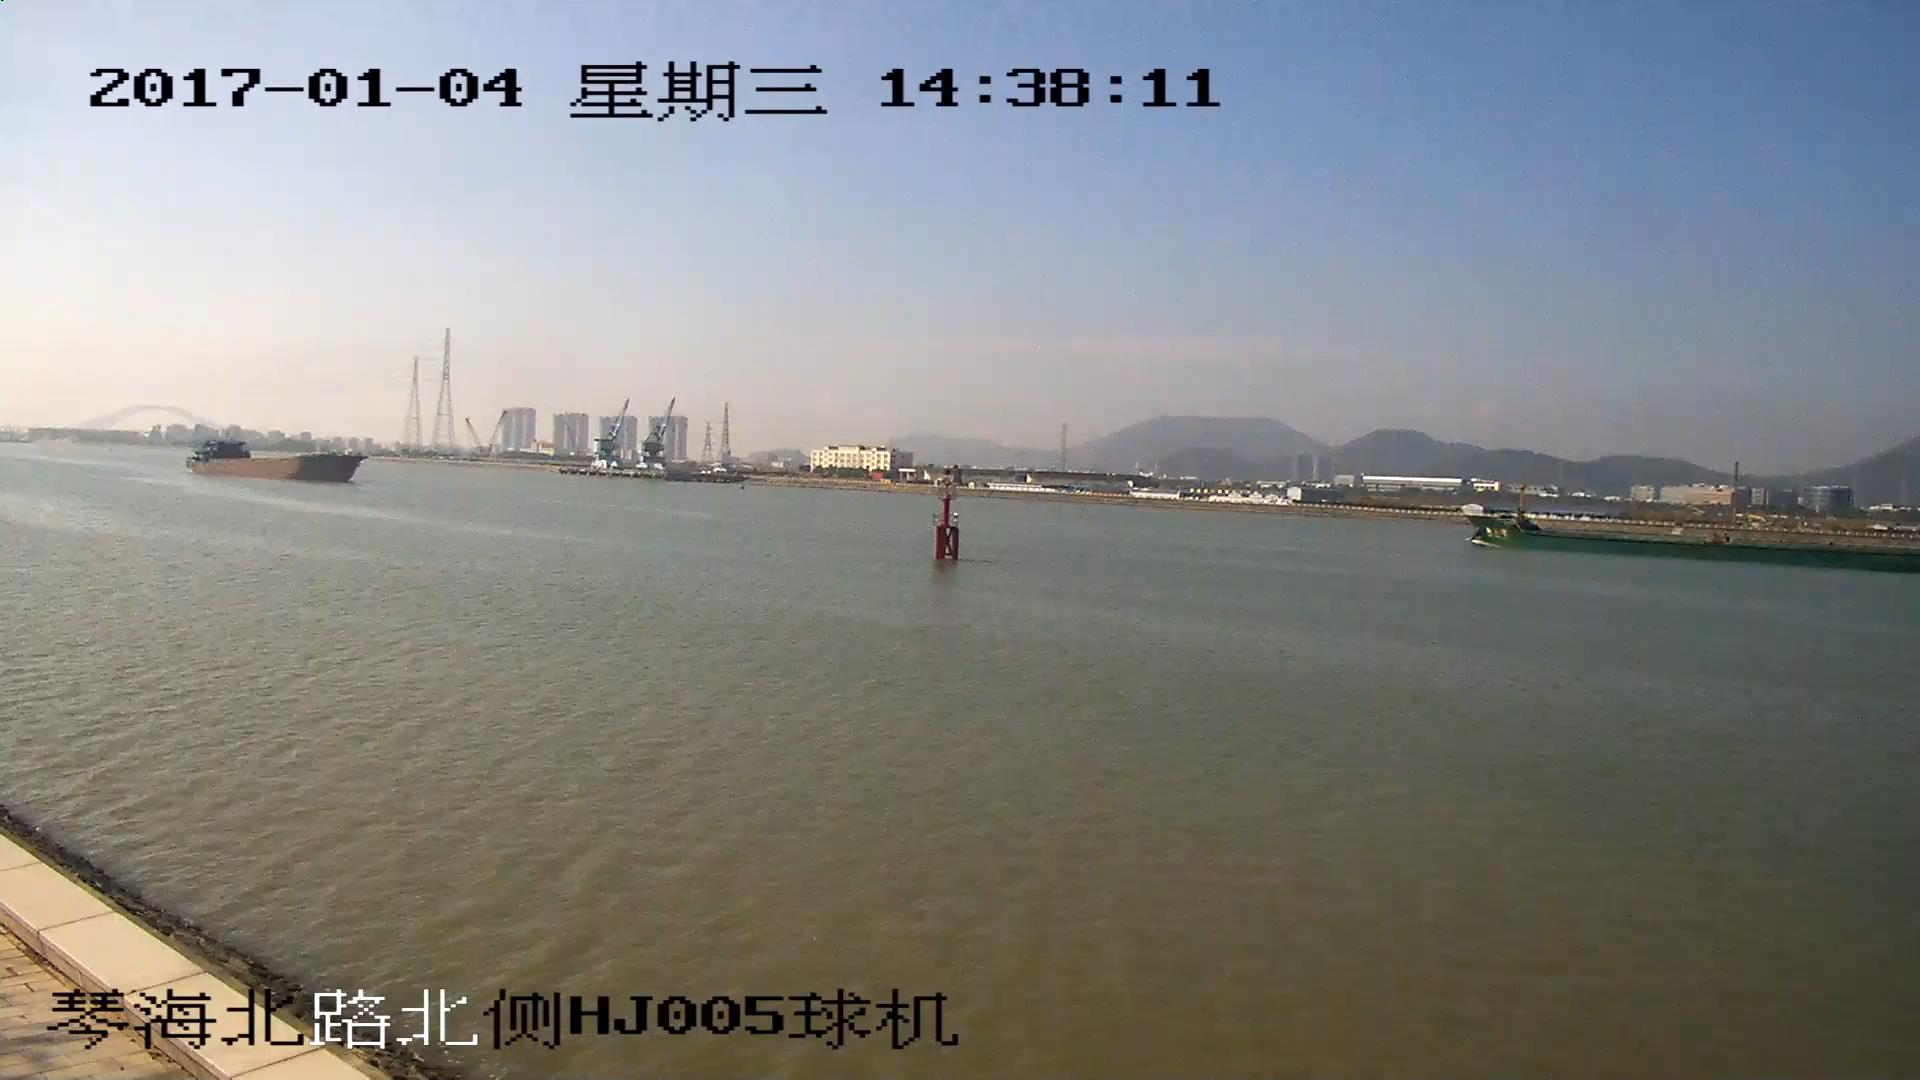bulk cargo carrier: (190, 440, 356, 483)
general cargo ship: (1460, 504, 1920, 576)
